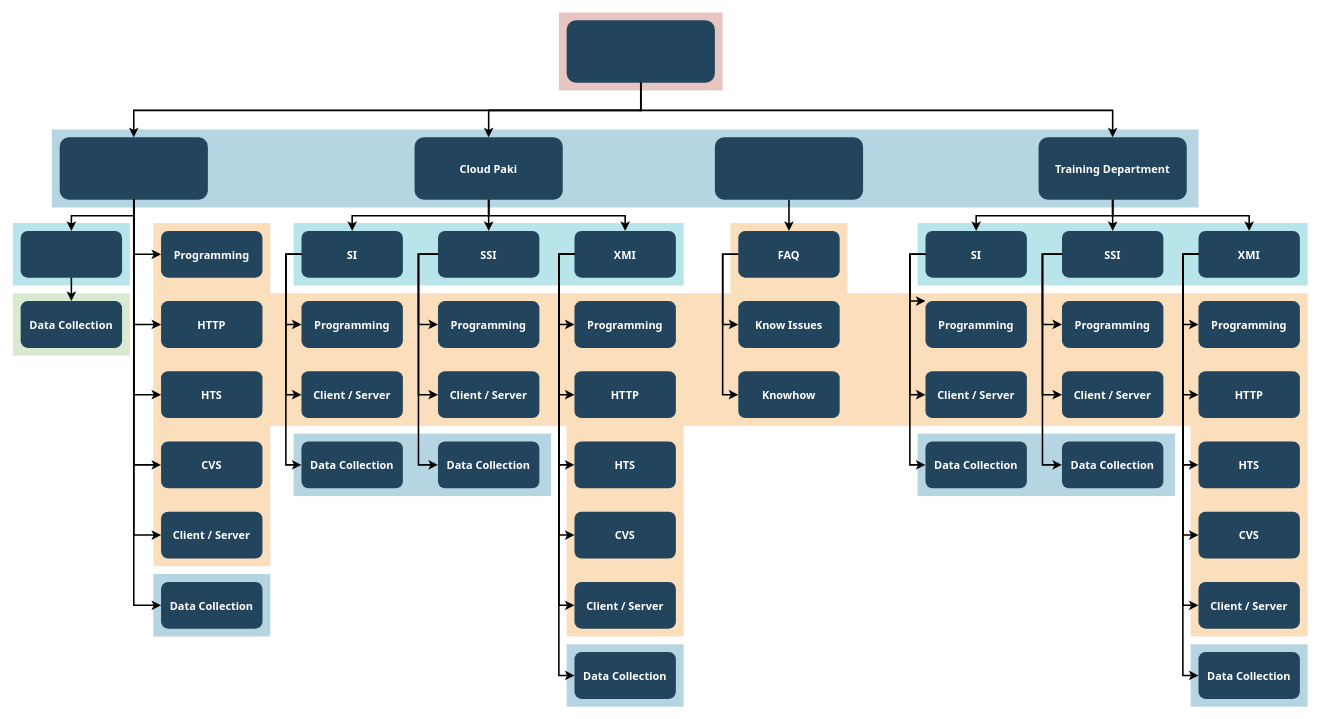
Image size: 1321x719. Some labels were removed from this diagram. The centre of each missing label's shape, as x and y in pixels:
"chmura" belongs at (x=133, y=168).
"IM chatbot" belongs at (x=640, y=51).
"Regular Report" belongs at (x=71, y=253).
"Technical Support" belongs at (x=788, y=168).
